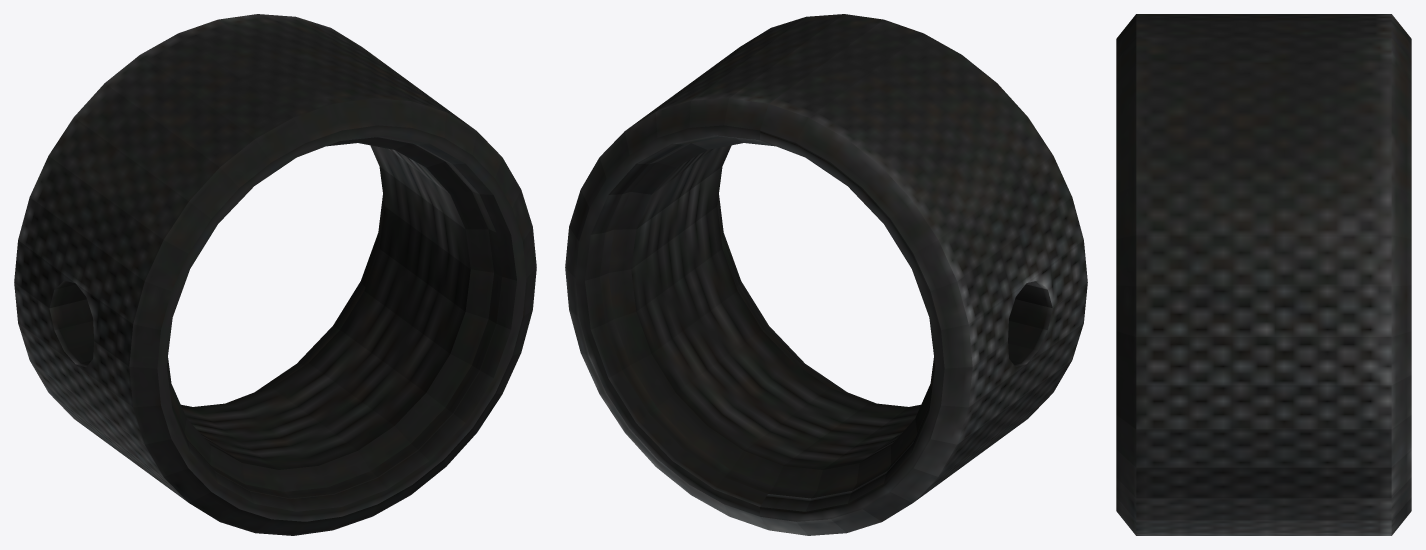
3 renders of one model, left to right at view 1: azimuth 30°, elevation 25°; view 2: azimuth 150°, elevation 25°; view 3: azimuth 270°, elevation 25°, orthographic. The views are drawn at different scales.
Visible parts, largest first — view 1: TW_628120621d5df4475f46a335_PZ_Import; view 2: TW_628120621d5df4475f46a335_PZ_Import; view 3: TW_628120621d5df4475f46a335_PZ_Import.
Boxes of the visible parts, <box> form: TW_628120621d5df4475f46a335_PZ_Import: <box>14,14,536,535</box>; TW_628120621d5df4475f46a335_PZ_Import: <box>565,14,1087,535</box>; TW_628120621d5df4475f46a335_PZ_Import: <box>1116,14,1411,535</box>.
Bounding box in the file's own units: 0.0128 × 0.00725 × 0.0128.
Materials: 1 (1 with a texture image).
